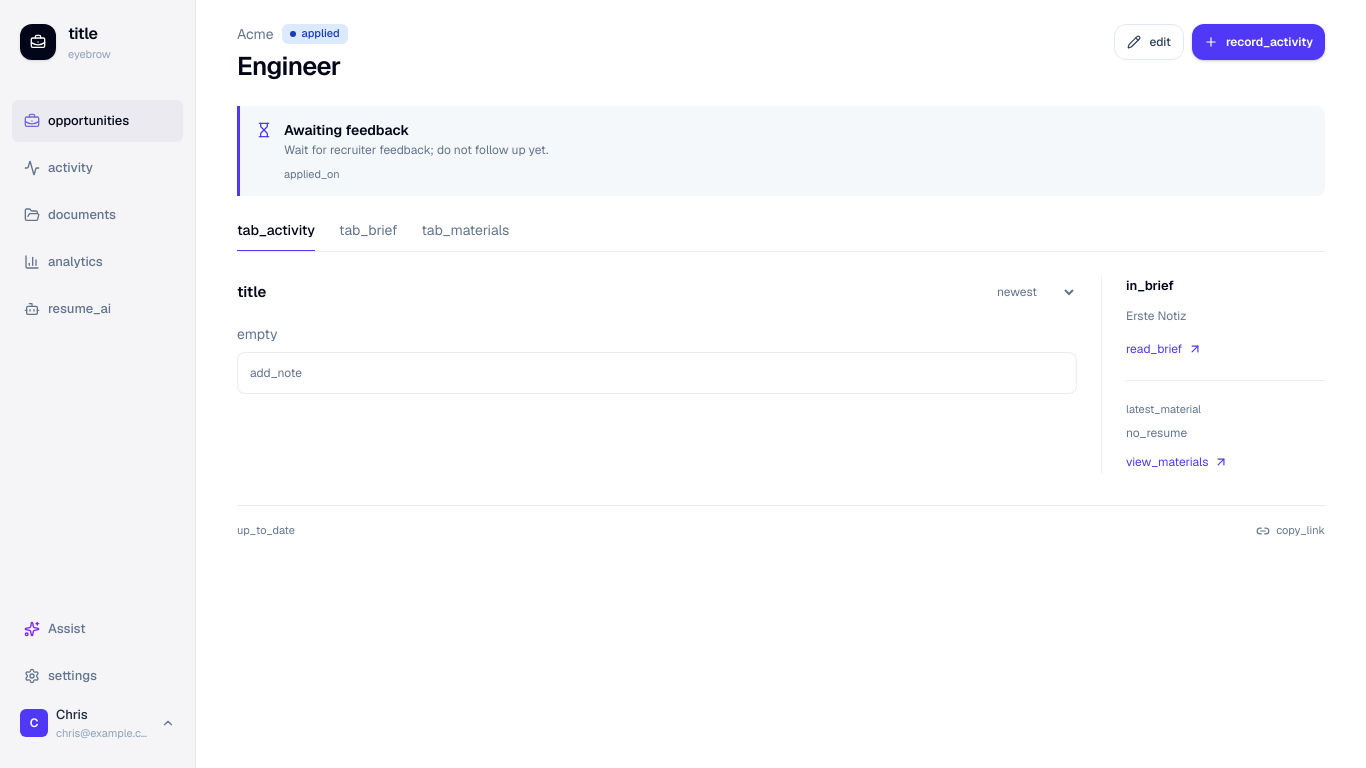
Scenario: ApplicationDetail › shows the persisted next action in the current-state banner and editor
The width and height of the screenshot is (1366, 768).
Expected: the text "Wait for recruiter feedback; do not follow up yet." is shown, top-left (284, 142), bottom-right (548, 158)
Click the button "edit".
click(1149, 42)  # box top-left (1114, 24), bottom-right (1184, 60)
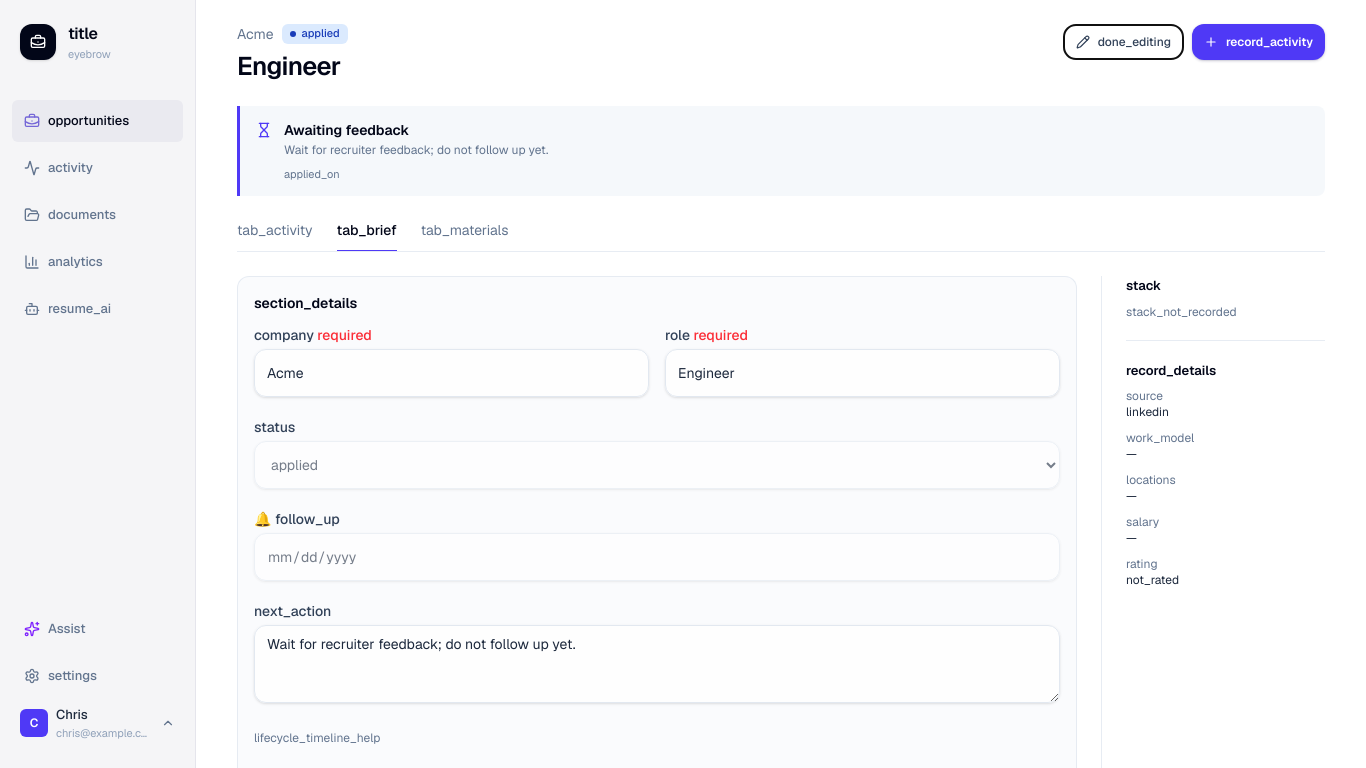
Result: the text box showing "Wait for recruiter feedback; do not follow up yet." is shown at top-left (254, 626), bottom-right (1060, 704)
